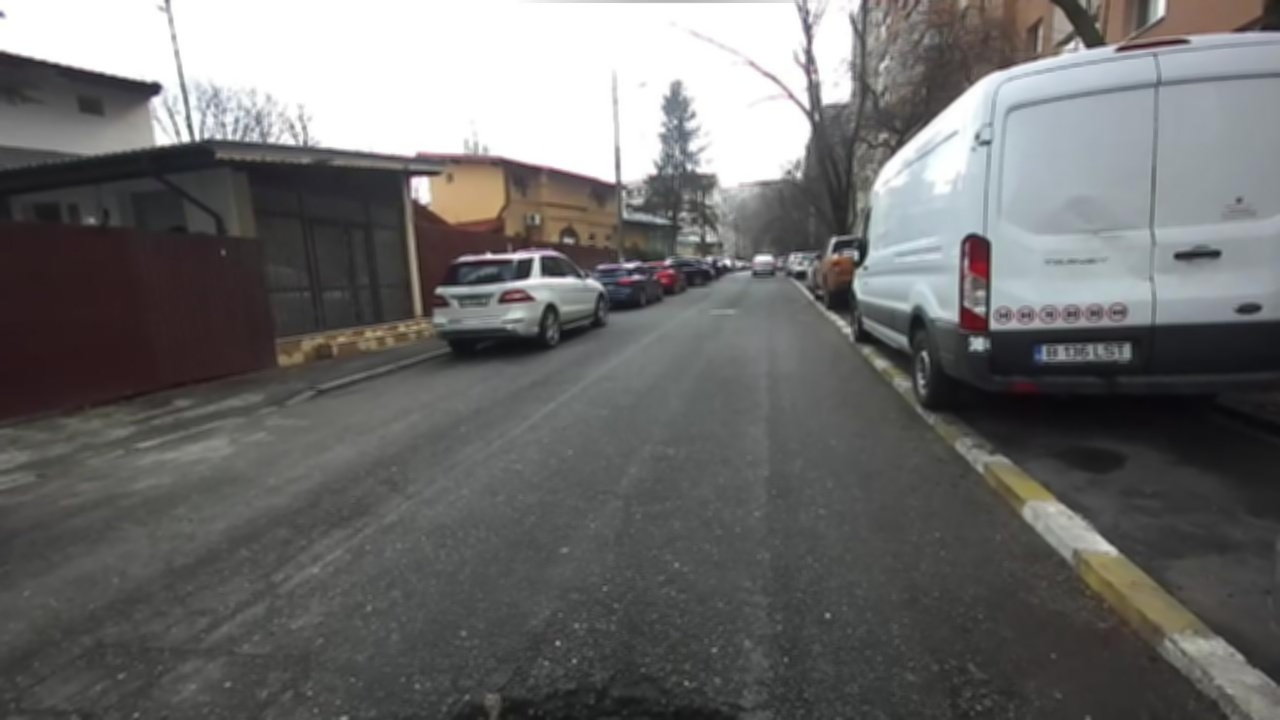pothole: (419, 671, 798, 719)
